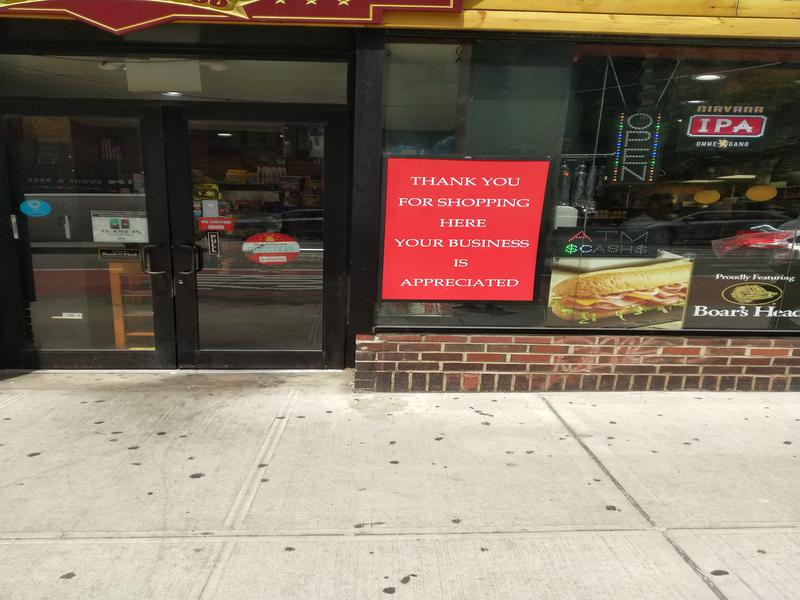double_door: (4, 95, 347, 377)
